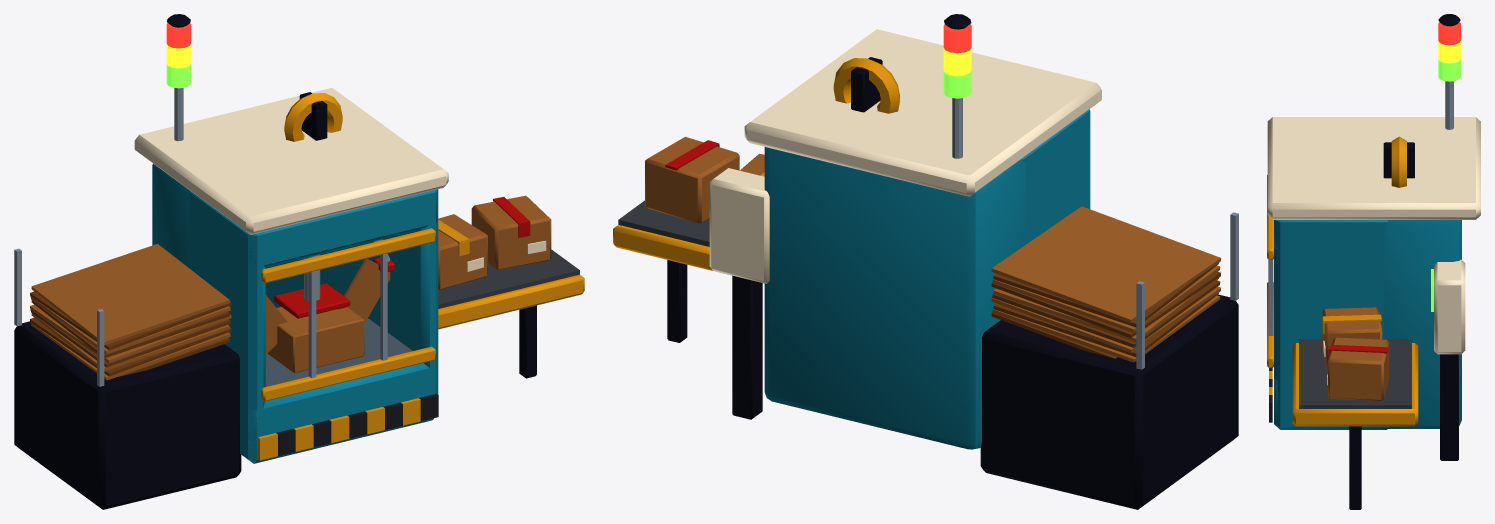
The model's file is BoxingMachine.fbx.
3 views of the same model, side by side, from view 1: azimuth 30°, elevation 25°; view 2: azimuth 150°, elevation 25°; view 3: azimuth 270°, elevation 25° (orthographic). The views are drawn at different scales.
Parts seen in each view (by area): view 1: BoxingMachine; view 2: BoxingMachine; view 3: BoxingMachine.
Boxes of the visible parts, bbox=[...] form: BoxingMachine: bbox=[14, 14, 584, 509]; BoxingMachine: bbox=[613, 14, 1238, 509]; BoxingMachine: bbox=[1267, 14, 1480, 509].
Size of the model in its own units: 8.15 by 6.32 by 3.41.
